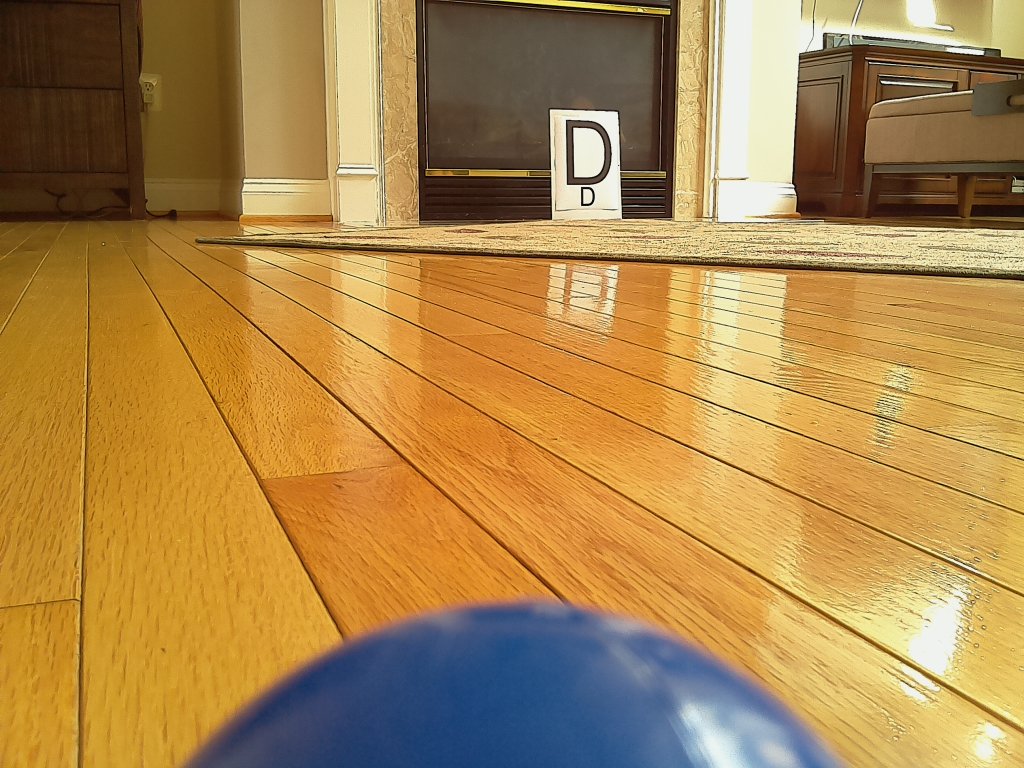letter: (567, 121, 612, 185)
